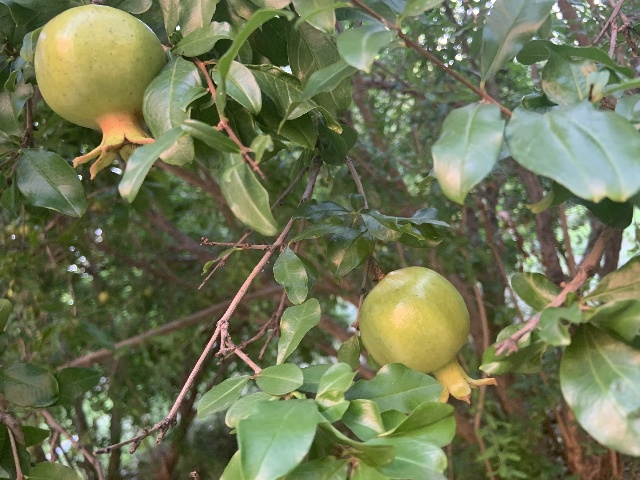mid-growth: (33, 4, 166, 181), (357, 266, 497, 405)
